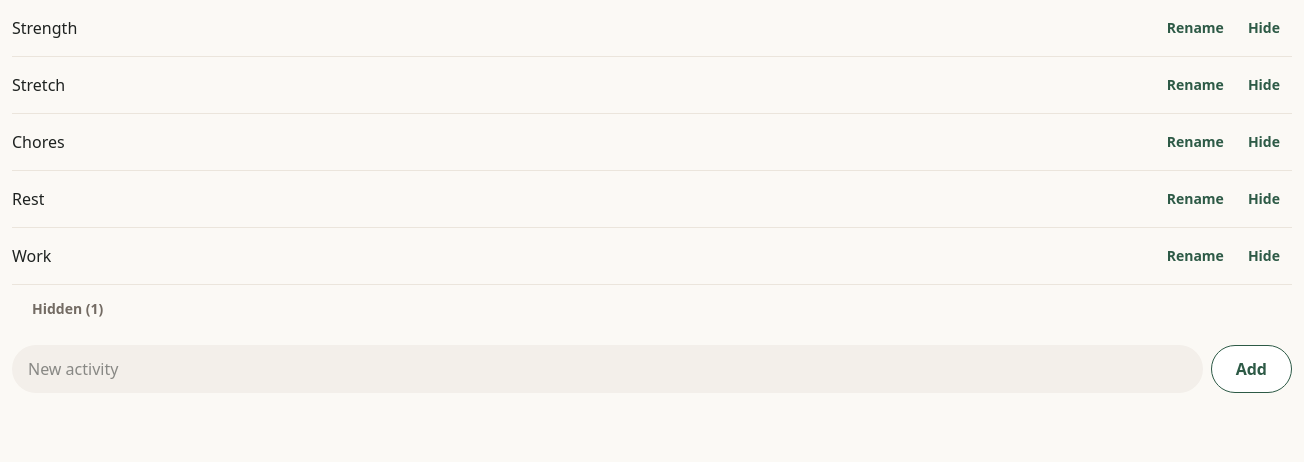
OptionsList › puts a Hidden row last in the list that reveals the hidden options with a Restore button
Check: the button with aria-label "Hide Strength" is shown, box [1236,4,1292,52]
Click the button "Hidden (1)" at (58, 309), box [12,285,103,333]
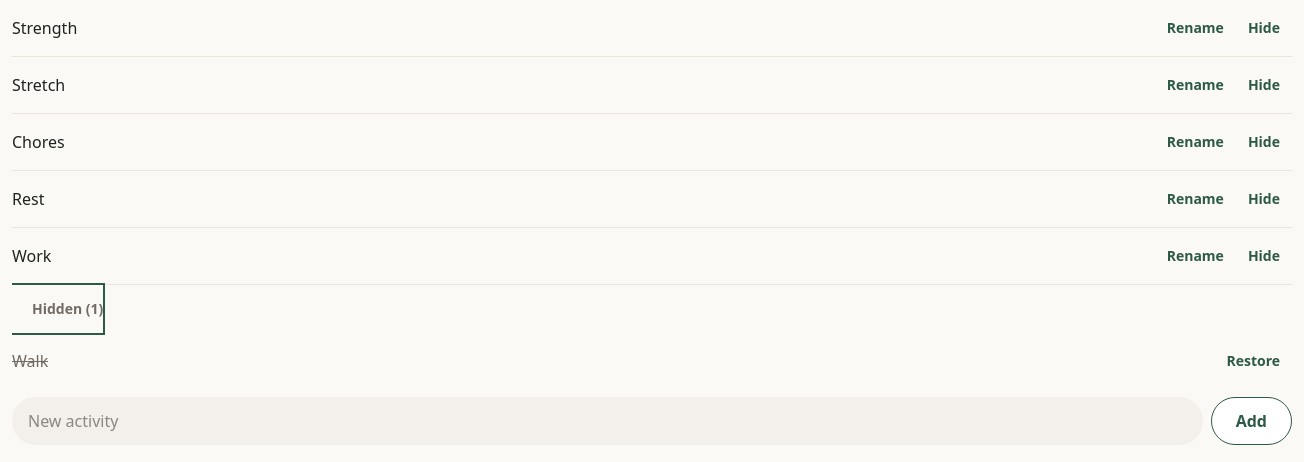
Check: the button with aria-label "Show Walk" reads "Restore", box [1214,337,1292,385]
